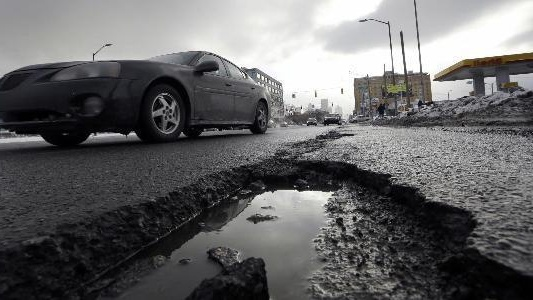pothole: (0, 152, 532, 299)
